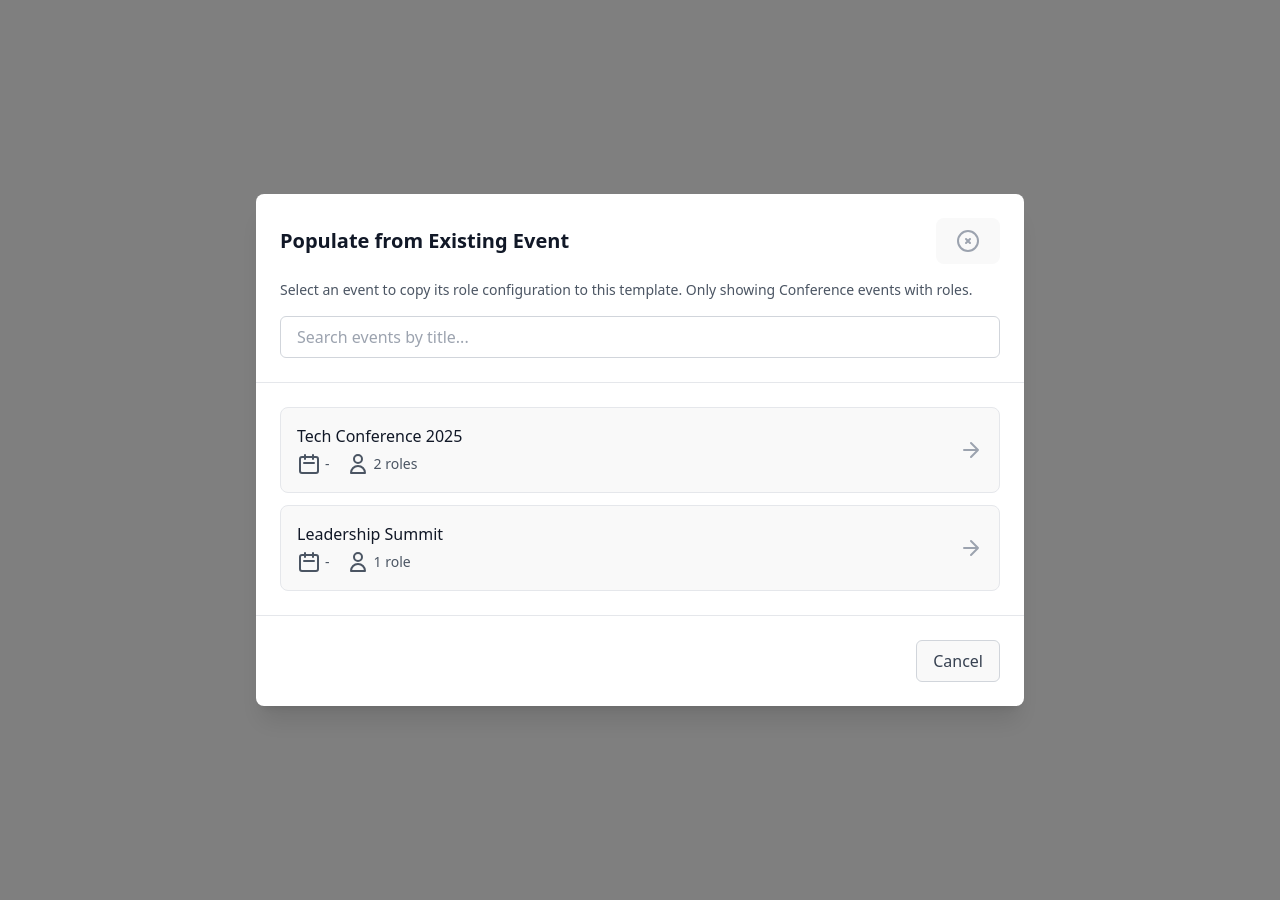
Test: PopulateFromEventModal › handles search functionality
The width and height of the screenshot is (1280, 900).
expect the heading "Tech Conference 2025" is shown: met, box [297,425,462,447]
Type "Leadership" into the field with placeholder "Search events by title..." at (640, 337), box [280,316,1000,358]
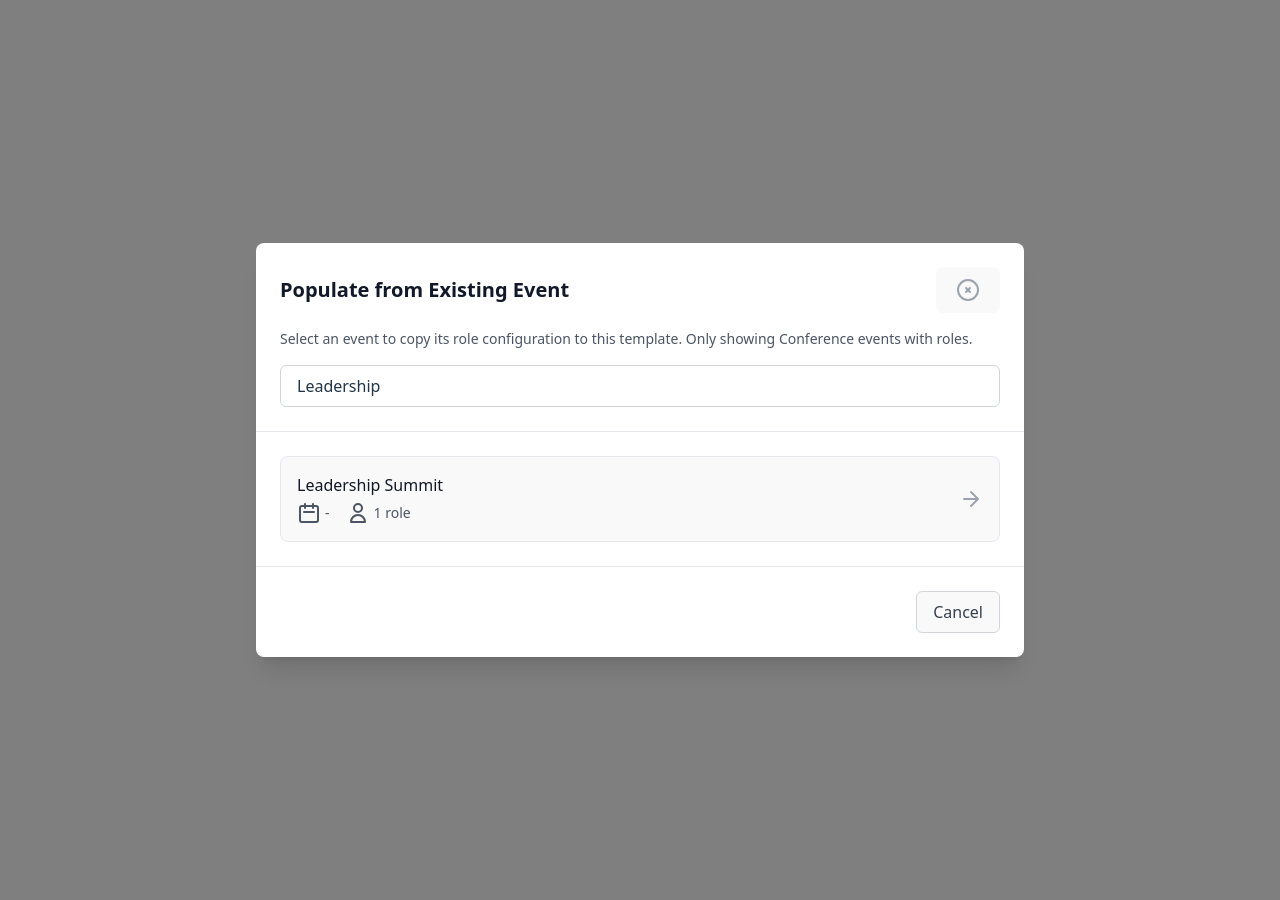
expect the heading "Leadership Summit" is shown: met, box [297,474,443,496]
expect the button "Tech Conference 2025" is gone: met
